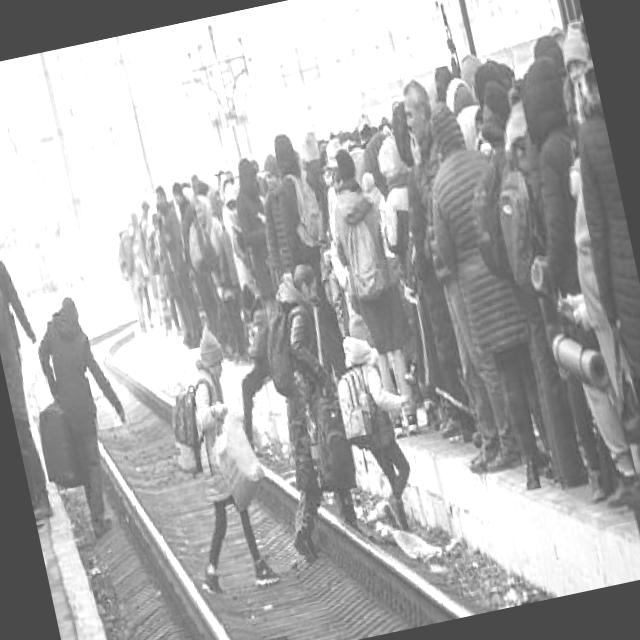Person: (251, 259, 370, 554), (158, 324, 283, 600), (25, 288, 139, 546), (322, 306, 432, 542)
